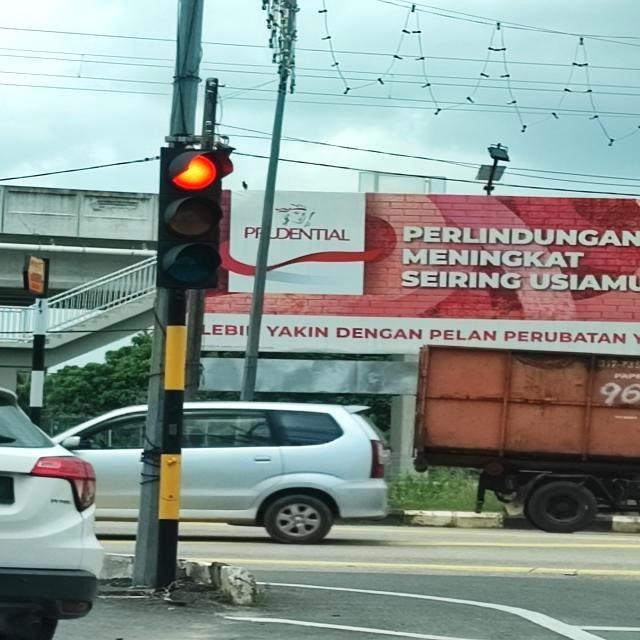Red: (156, 148, 234, 288)
